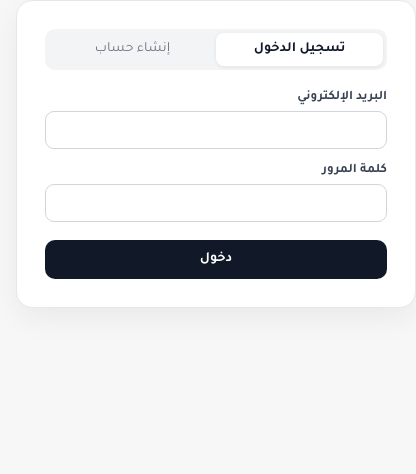
Test: AuthForm › switches to the sign-up form with name and role fields
Click the tab "إنشاء حساب" at {"x": 132, "y": 50}, box [49,33,216,66]
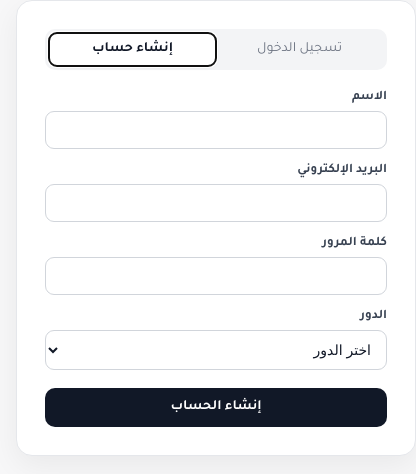
Check: the field labelled "الاسم" is shown, box [45,111,387,149]
Check: the dropdown labelled "الدور" shows "اختر الدور", box [45,330,387,370]
